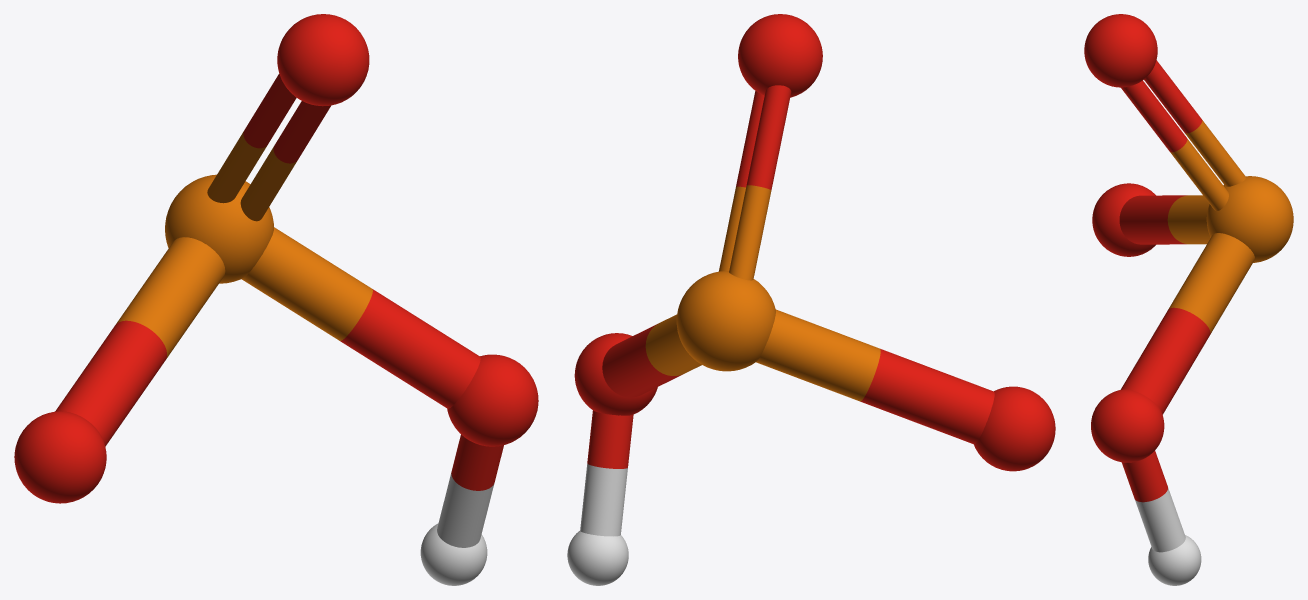
3 renders of one model, left to right at view 1: azimuth 30°, elevation 25°; view 2: azimuth 150°, elevation 25°; view 3: azimuth 270°, elevation 25°, orthographic. The views are drawn at different scales.
Bounding box in the file's own units: 2.92 × 3.43 × 1.3.
